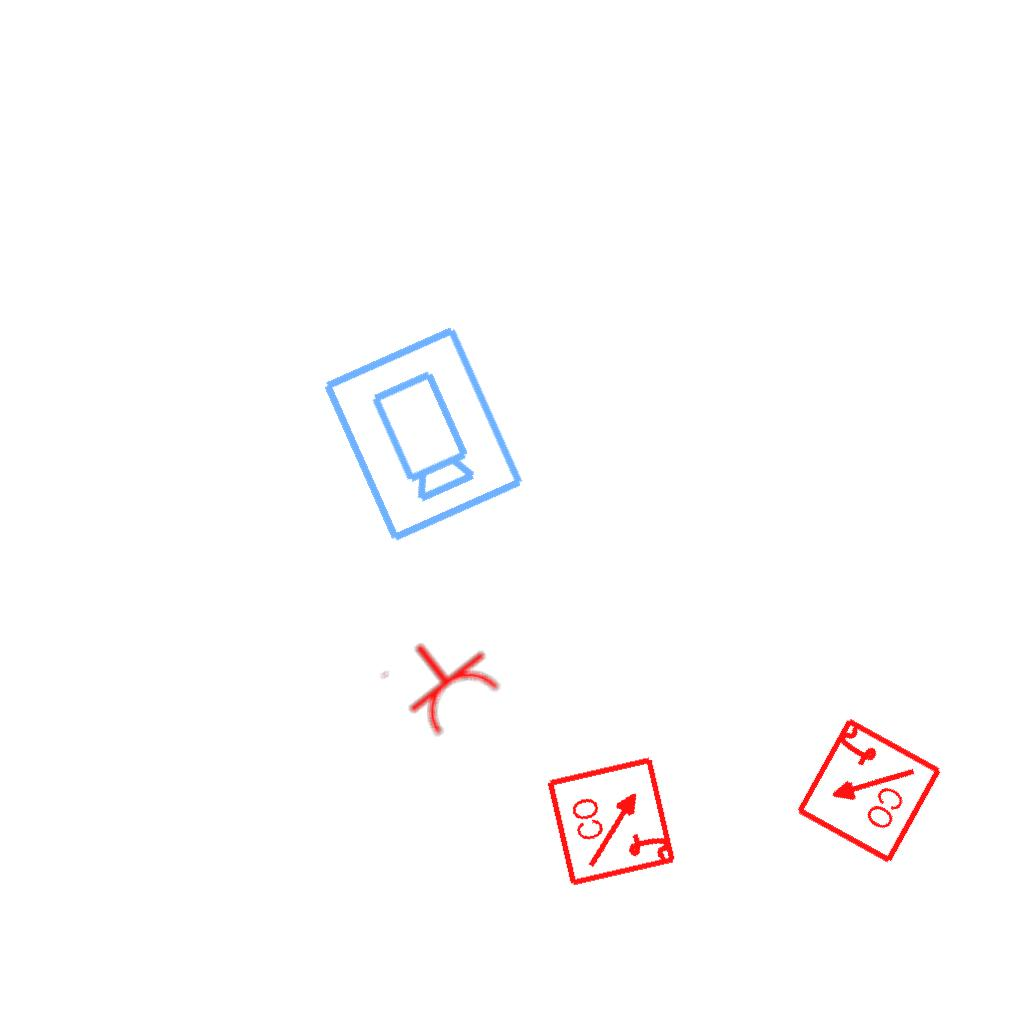KFO_Kamera_mit_Festobjektiv: (314, 319, 530, 549)
ROA_Rauchmelder_optisch_mit_Signalgeber_(Sockelsirene): (790, 713, 945, 868), (544, 752, 681, 889)
Schukosteckdose_einfach: (376, 614, 509, 746)
